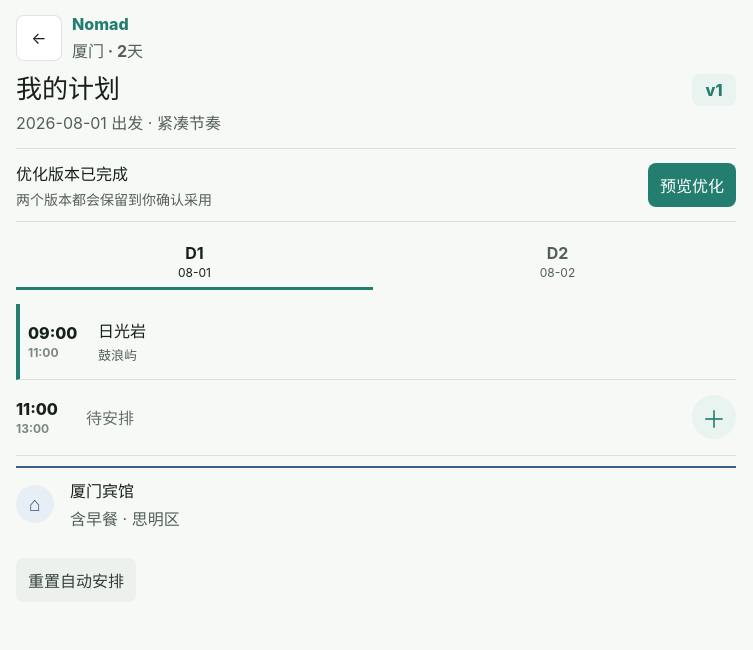
DayPlanScreen › previews and adopts HQ while preserving the current plan until adoption succeeds
The width and height of the screenshot is (753, 650).
Expected: the heading "我的计划" is shown, [16,73,120,104]
Click the button "预览优化": (692, 185) [648,163,736,207]
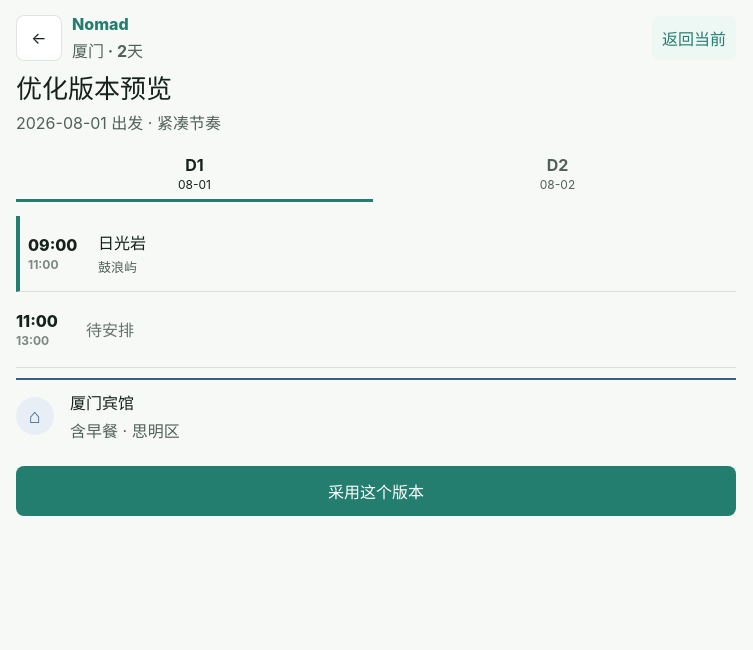
Expected: the heading "优化版本预览" is shown, [16,73,172,104]
Click the button "采用这个版本": (376, 491) [16,466,736,516]
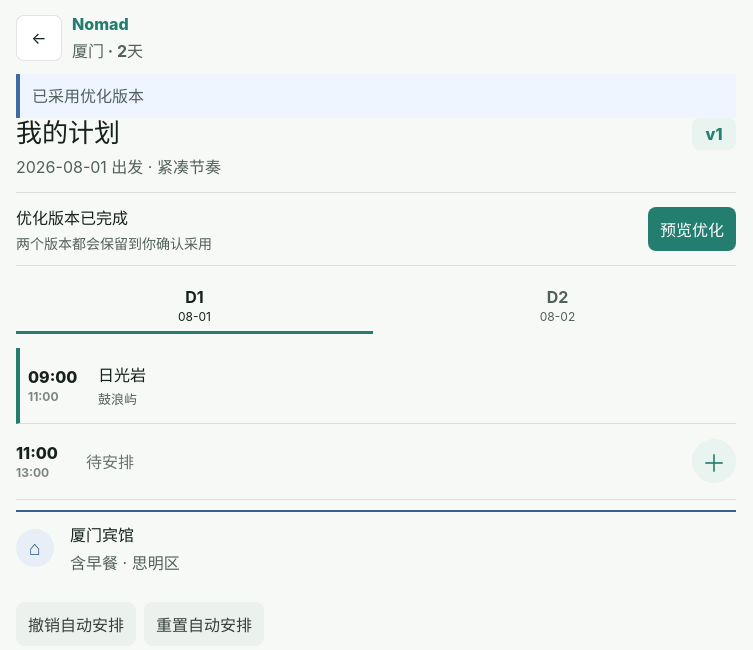
Expected: the text "已采用优化版本" is shown, [16,74,736,118]
